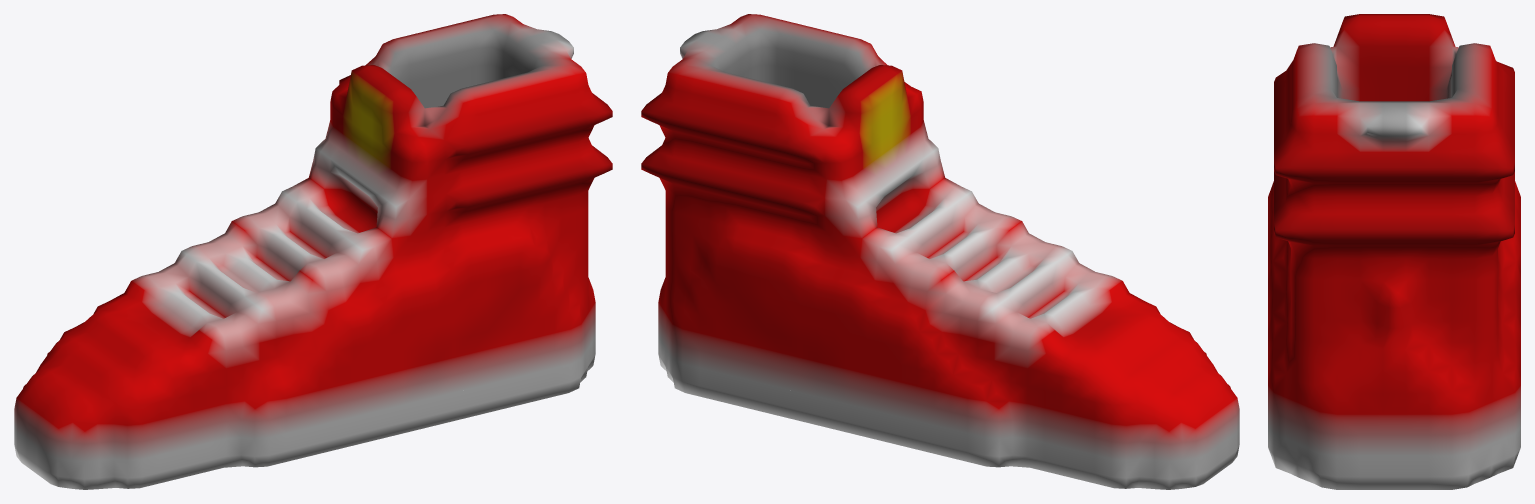
3 renders of one model, left to right at view 1: azimuth 30°, elevation 25°; view 2: azimuth 150°, elevation 25°; view 3: azimuth 270°, elevation 25°, orthographic. The views are drawn at different scales.
Bounding box in the file's own units: 1.6 × 0.9 × 0.55.
